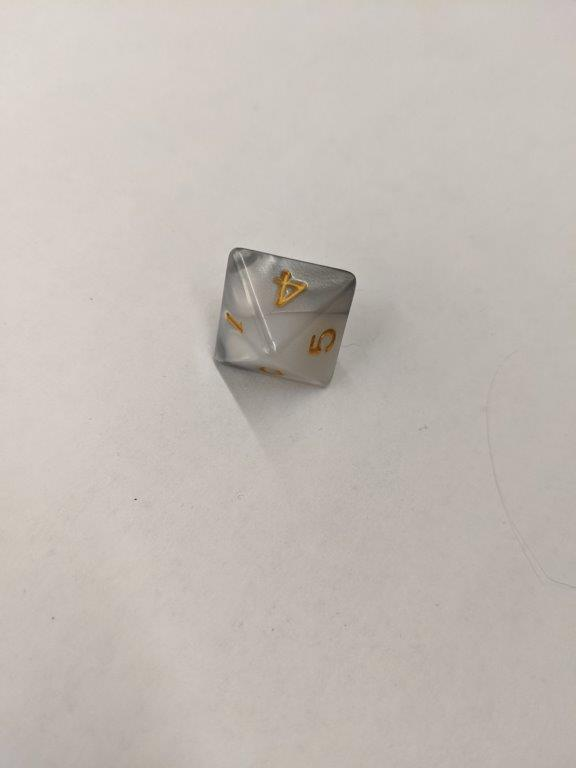d8-4: (211, 247, 359, 388)
